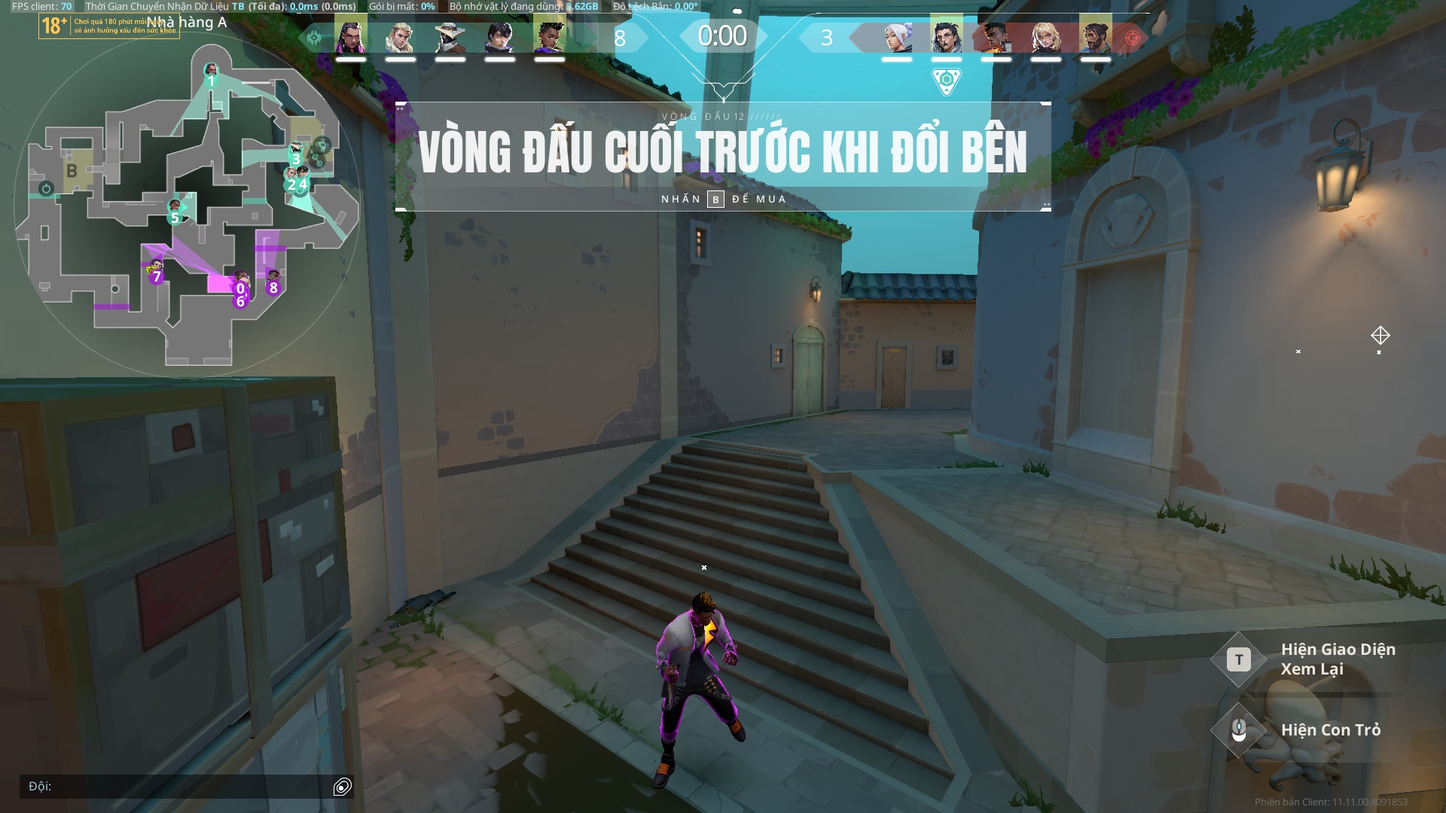body: (670, 611, 737, 670)
head: (689, 595, 714, 629)
